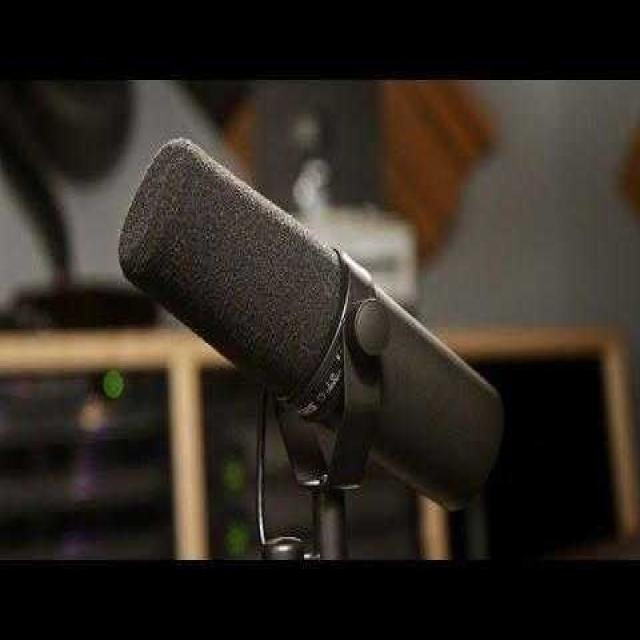microphone: (120, 140, 498, 517)
